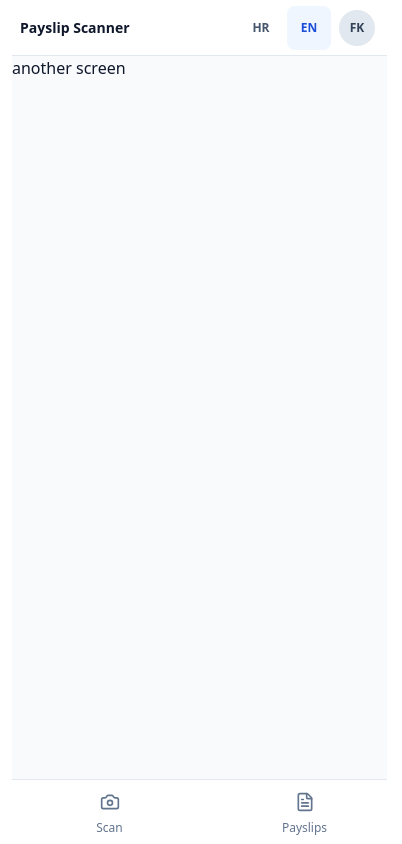
AppLayout › navigates from the bottom tab bar
Click the link "Scan" at (110, 814), box [96,792,123,836]
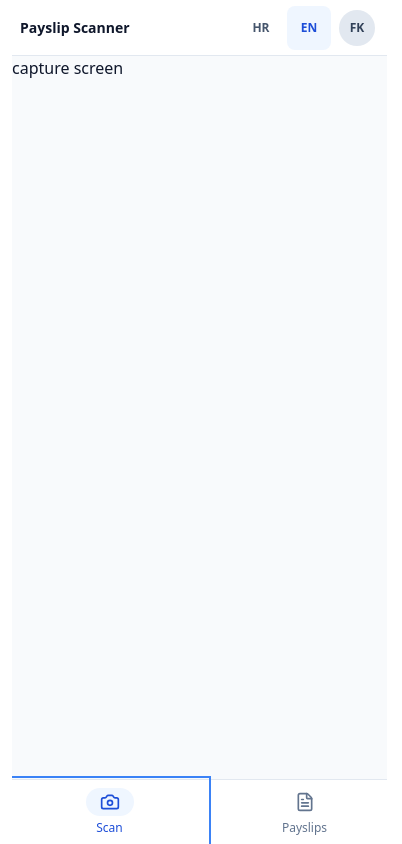
Expected: the text "capture screen" is shown, [12,57,123,79]
